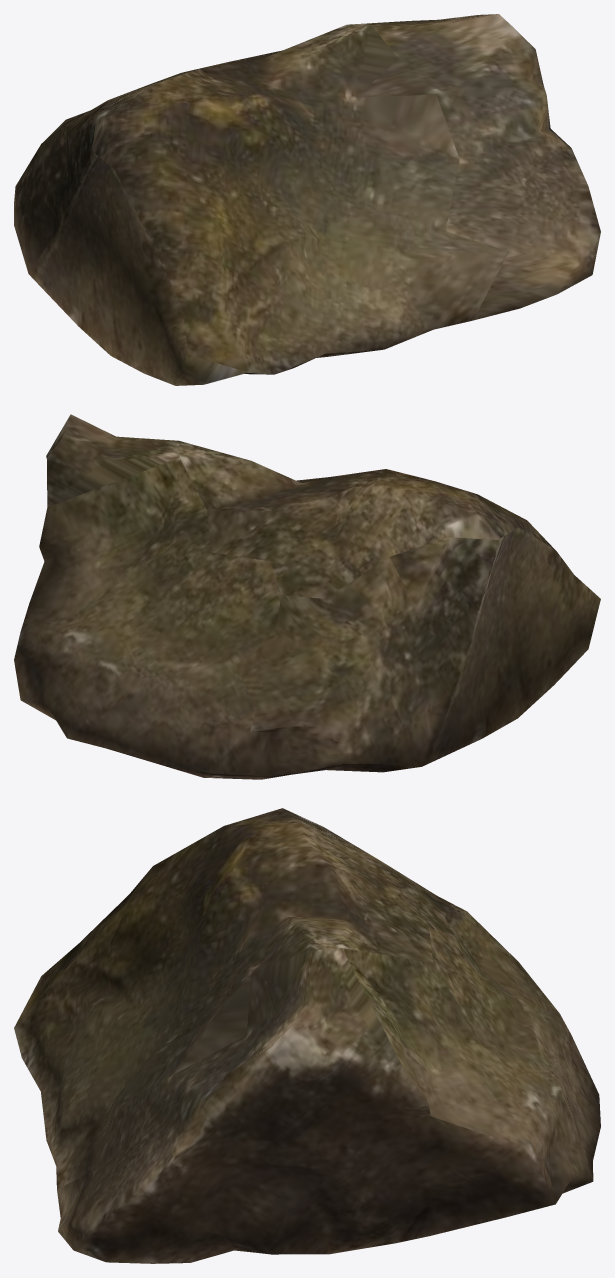
File: rocks_3.gltf
3 renders of one model, top to bottom at view 1: azimuth 30°, elevation 25°; view 2: azimuth 150°, elevation 25°; view 3: azimuth 270°, elevation 25°, orthographic. The views are drawn at different scales.
Visible parts, largest first — view 1: rock_moss_set_01_rock03; view 2: rock_moss_set_01_rock03; view 3: rock_moss_set_01_rock03.
Part boxes in pixels (<box>): rock_moss_set_01_rock03: <box>14,14,600,385</box>; rock_moss_set_01_rock03: <box>14,414,600,779</box>; rock_moss_set_01_rock03: <box>14,808,600,1263</box>.
Size of the model in its own units: 2.09 by 1.09 by 2.08.
1 material, 1 textured.
